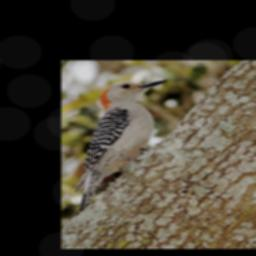Woodpecker: (66, 73, 171, 220)
